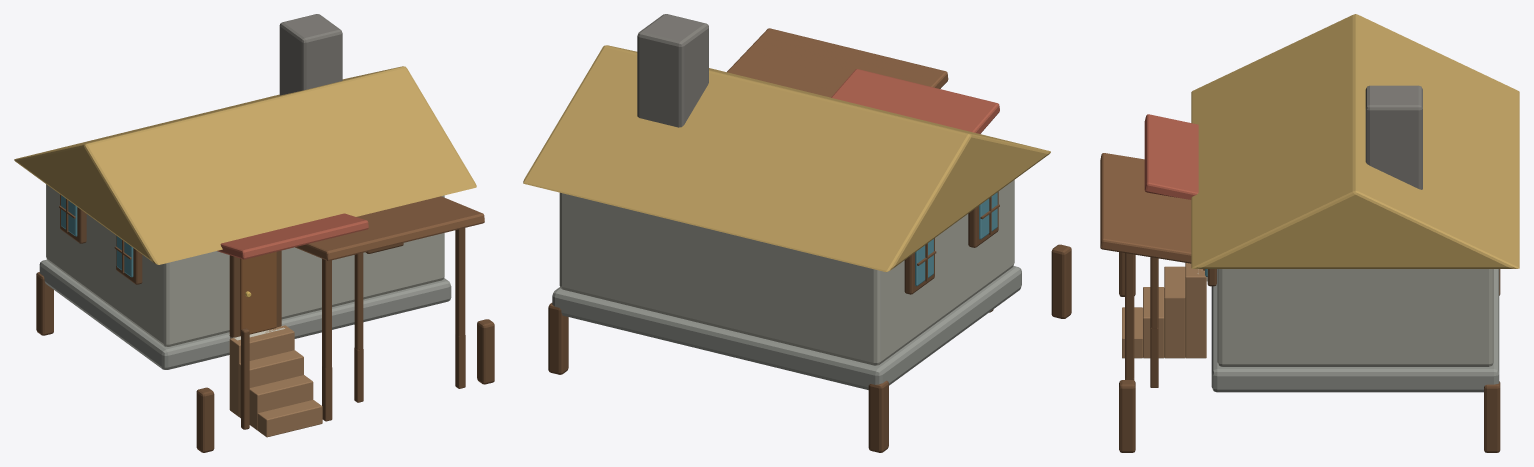
Rendered from wetland-workshop-1.glb.
3 renders of one model, left to right at view 1: azimuth 30°, elevation 25°; view 2: azimuth 150°, elevation 25°; view 3: azimuth 270°, elevation 25°, orthographic. The views are drawn at different scales.
Parts seen in each view (by area): view 1: Golden thatch, Fieldstone, Dark beams, Foundation stone, Aged oak, Wood shingles, Soot stone, Clay tiles, Door oak, Blue glass; view 2: Golden thatch, Fieldstone, Foundation stone, Wood shingles, Soot stone, Dark beams, Clay tiles, Blue glass; view 3: Golden thatch, Fieldstone, Foundation stone, Wood shingles, Aged oak, Dark beams, Soot stone, Clay tiles.
Part boxes in pixels (x1=…): Golden thatch: x1=14, y1=66, x2=476, y2=264; Fieldstone: x1=46, y1=184, x2=444, y2=346; Dark beams: x1=36, y1=194, x2=494, y2=452; Foundation stone: x1=39, y1=259, x2=451, y2=369; Aged oak: x1=229, y1=325, x2=322, y2=437; Wood shingles: x1=295, y1=196, x2=484, y2=260; Soot stone: x1=279, y1=14, x2=342, y2=95; Clay tiles: x1=217, y1=213, x2=368, y2=259; Door oak: x1=240, y1=252, x2=276, y2=335; Blue glass: x1=61, y1=195, x2=133, y2=277; Golden thatch: x1=523, y1=45, x2=1050, y2=272; Fieldstone: x1=559, y1=180, x2=1014, y2=365; Foundation stone: x1=552, y1=266, x2=1021, y2=389; Wood shingles: x1=727, y1=28, x2=948, y2=97; Soot stone: x1=637, y1=14, x2=708, y2=127; Dark beams: x1=548, y1=191, x2=1071, y2=452; Clay tiles: x1=831, y1=69, x2=999, y2=133; Blue glass: x1=915, y1=192, x2=997, y2=286; Golden thatch: x1=1191, y1=14, x2=1519, y2=268; Fieldstone: x1=1217, y1=269, x2=1493, y2=366; Foundation stone: x1=1211, y1=269, x2=1499, y2=392; Wood shingles: x1=1100, y1=153, x2=1191, y2=263; Aged oak: x1=1122, y1=263, x2=1206, y2=358; Dark beams: x1=1119, y1=252, x2=1500, y2=452; Soot stone: x1=1365, y1=85, x2=1422, y2=189; Clay tiles: x1=1144, y1=114, x2=1198, y2=199.
Bounding box in the file's own units: 4.6 × 3.87 × 4.55.
